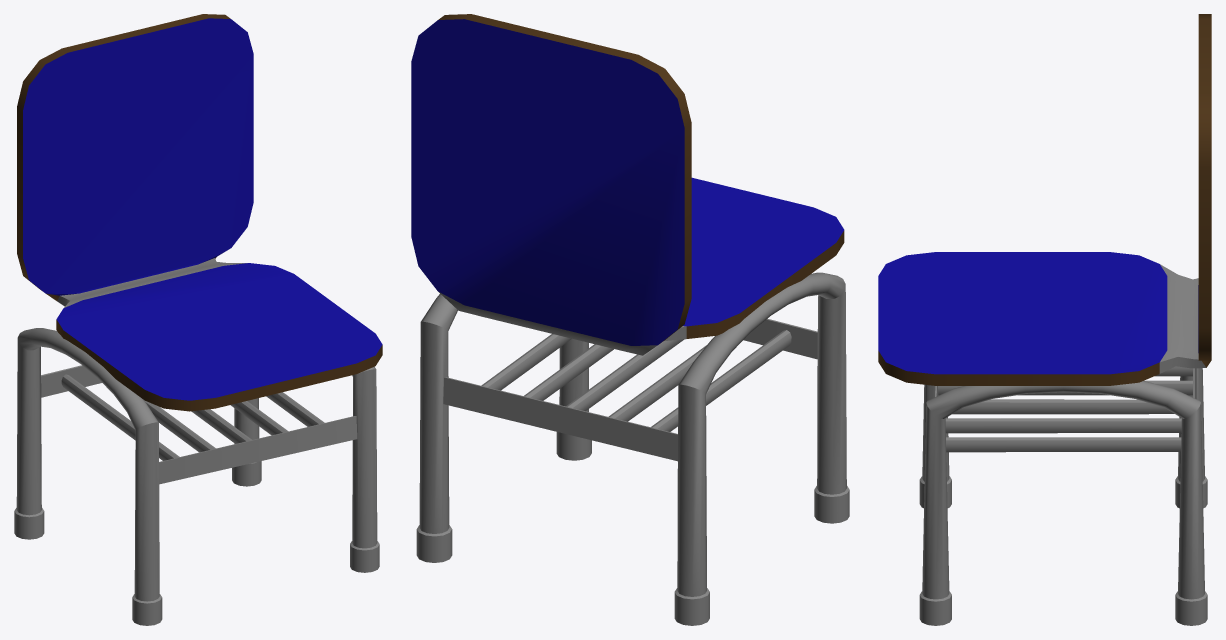
File: silla.fbx
3 renders of one model, left to right at view 1: azimuth 30°, elevation 25°; view 2: azimuth 150°, elevation 25°; view 3: azimuth 270°, elevation 25°, orthographic. The views are drawn at different scales.
Visible parts, largest first — view 1: Cube; view 2: Cube; view 3: Cube.
Part boxes in pixels (left/top/right/bottom): Cube: left=14, top=14, right=382, bottom=625; Cube: left=411, top=14, right=849, bottom=625; Cube: left=878, top=14, right=1211, bottom=625.
Size of the model in its own units: 892 by 1639 by 976.
